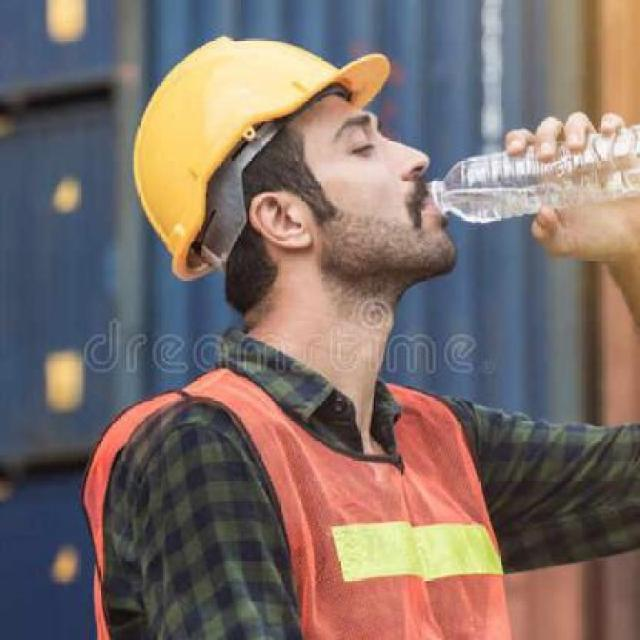No_Ear-Protection: (248, 192, 316, 250)
